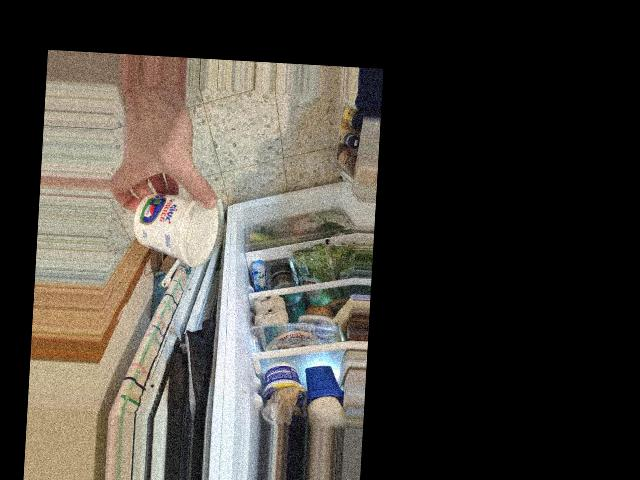cotage: (128, 184, 218, 265)
